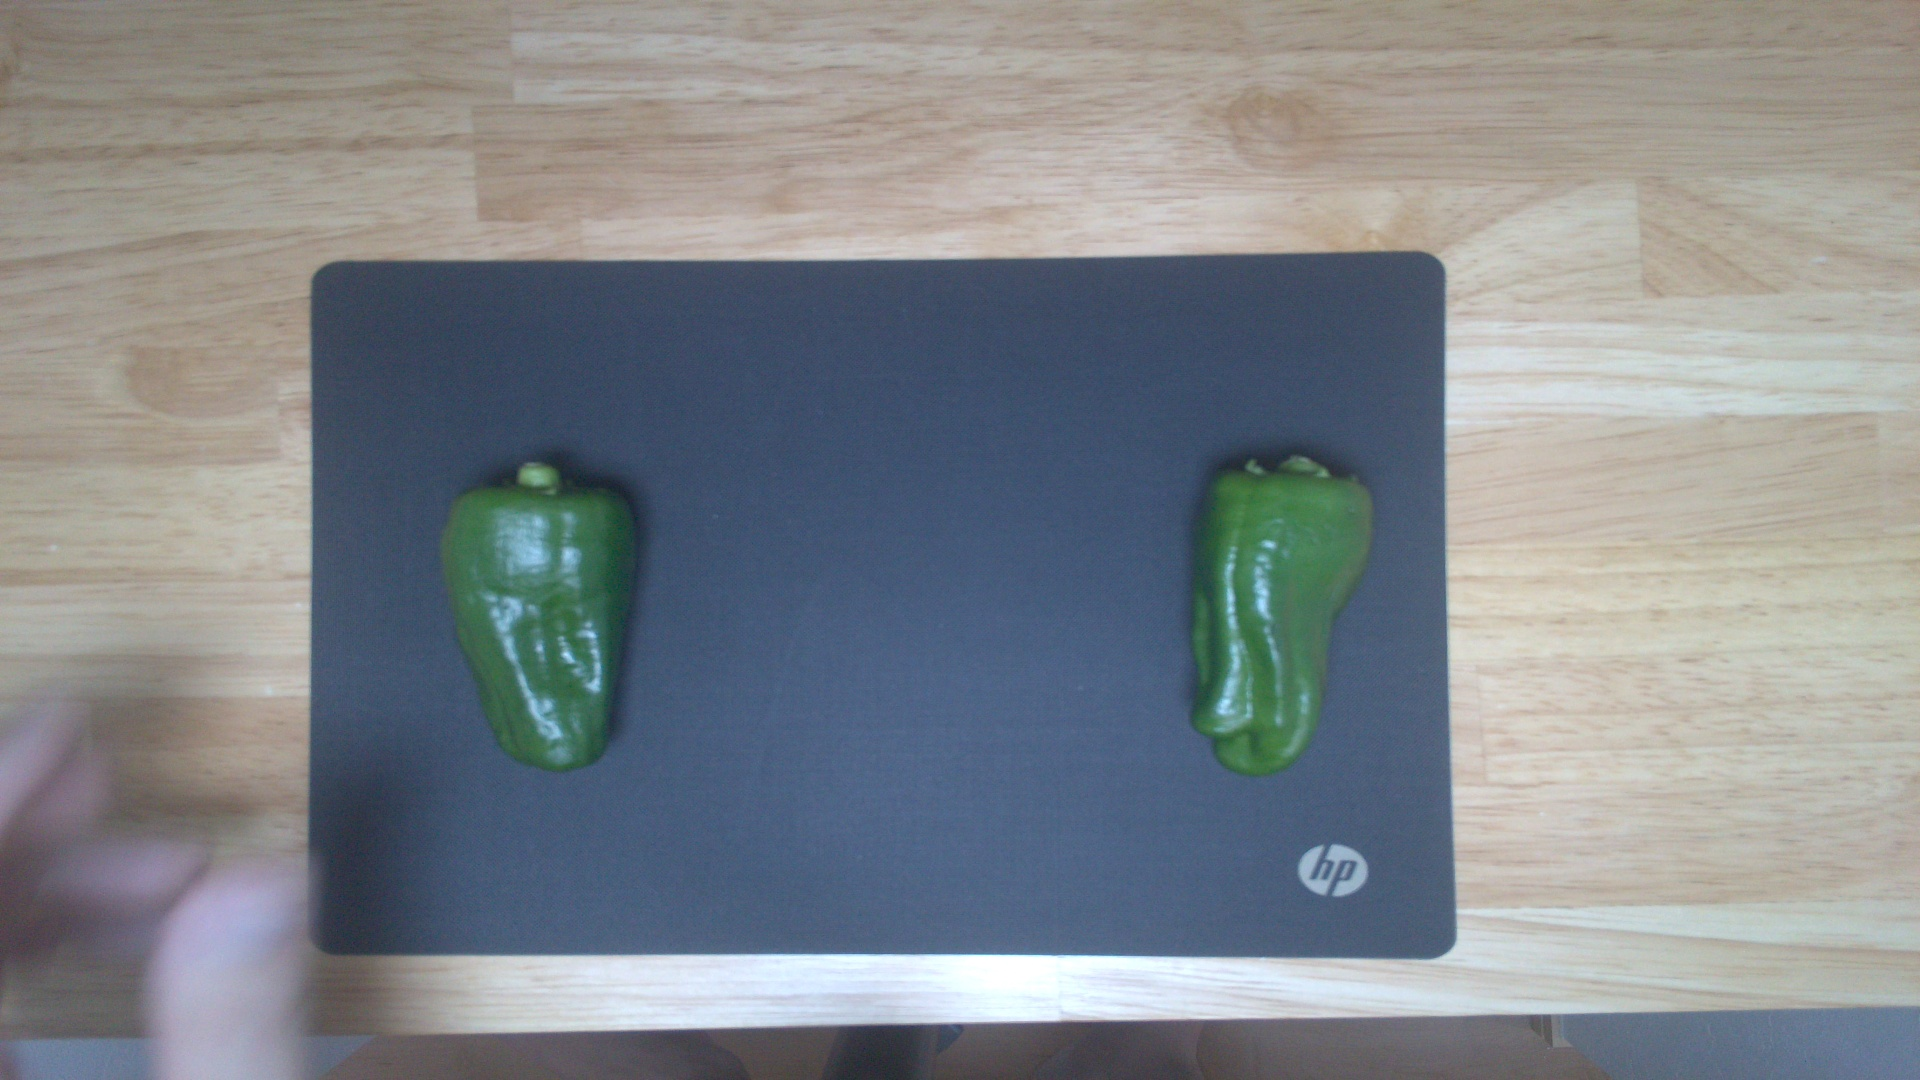Piman: (438, 459, 638, 771), (1185, 452, 1375, 771)
